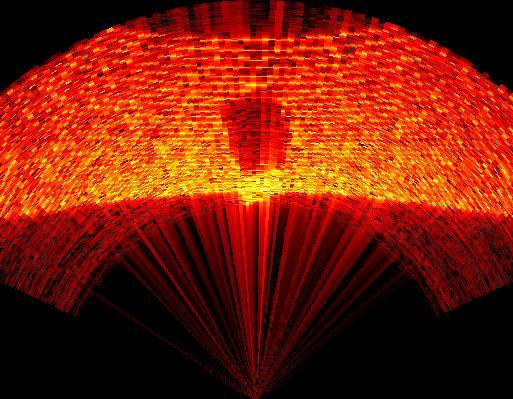box_crate: (220, 84, 294, 174)
